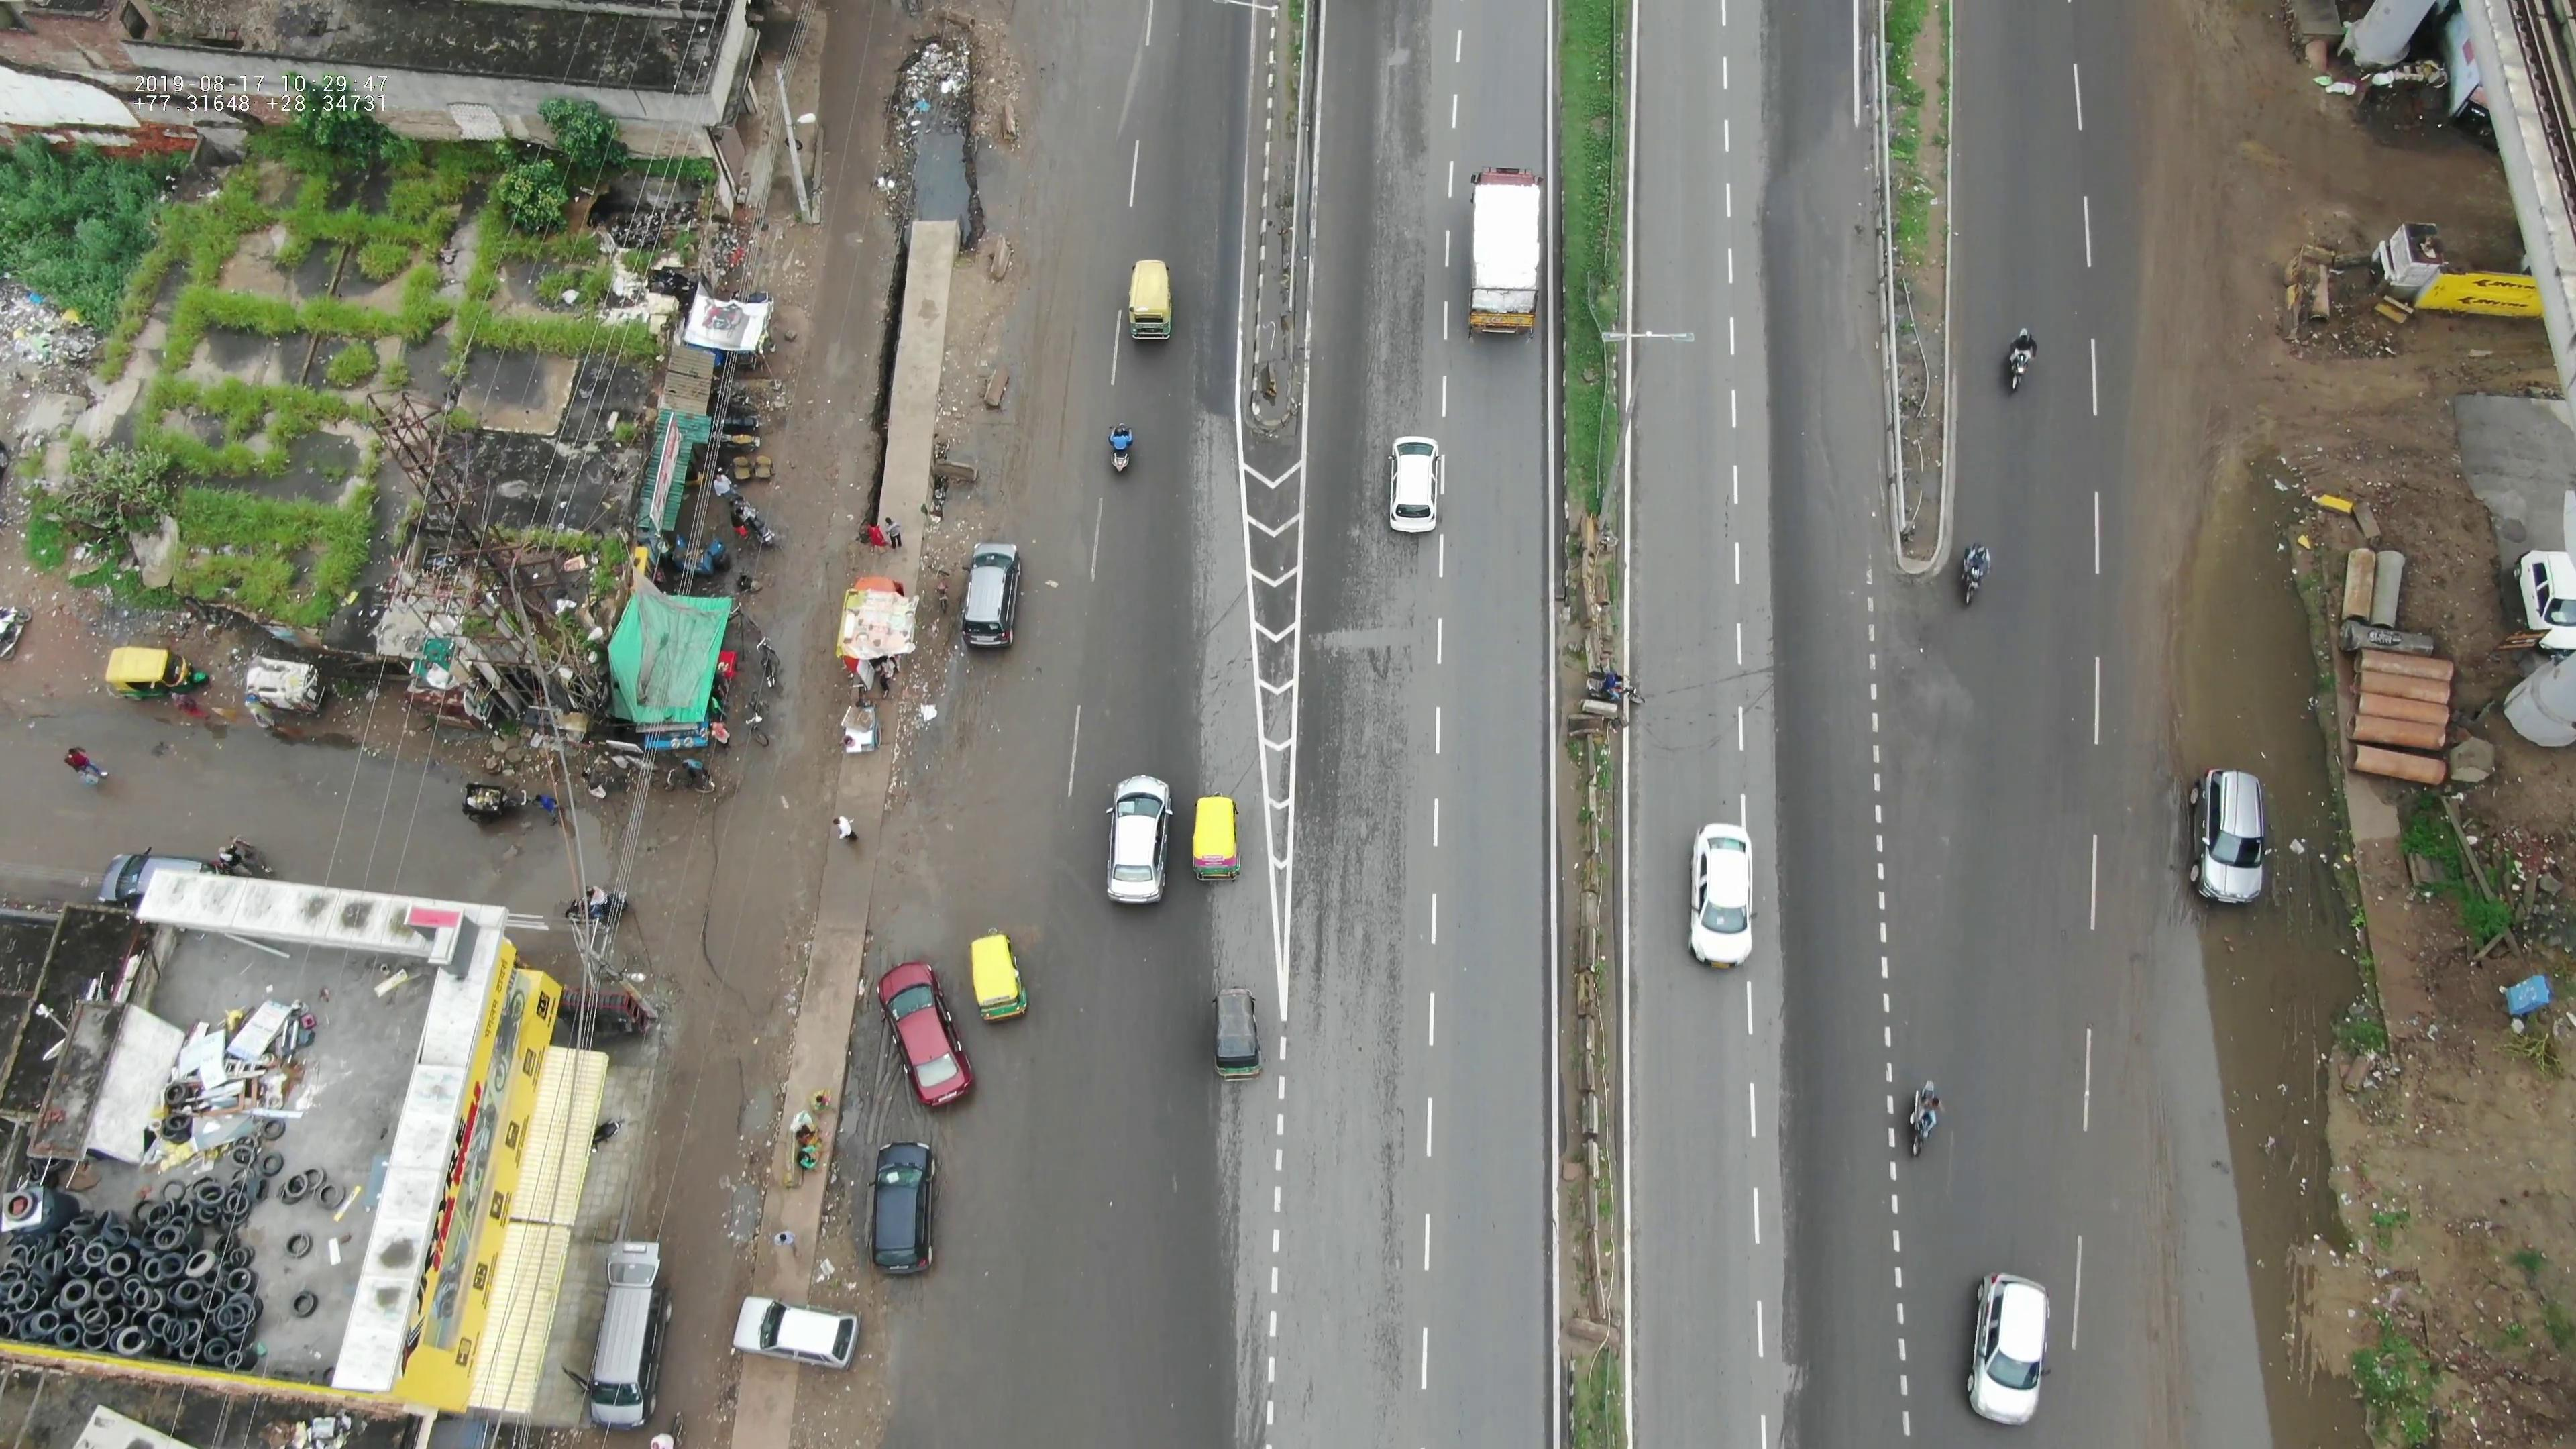Muddy_road: (872, 679, 1008, 934), (945, 203, 1019, 522)
Potholes: (863, 9, 1024, 225)
Waterlogging: (2139, 1014, 2403, 1445), (2185, 499, 2348, 1023), (1810, 96, 1879, 380)
